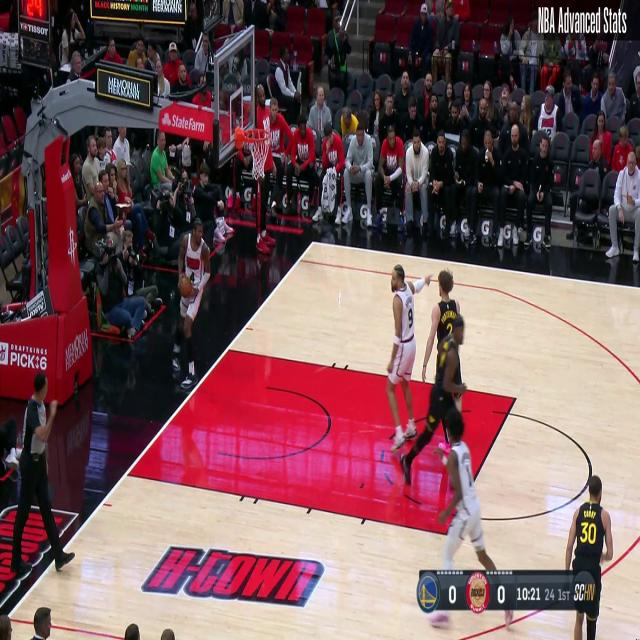ball: (171, 273, 197, 304)
judge: (14, 372, 74, 574)
player: (432, 413, 508, 629), (566, 463, 612, 640), (383, 269, 428, 448), (421, 269, 463, 440), (174, 220, 210, 388)
